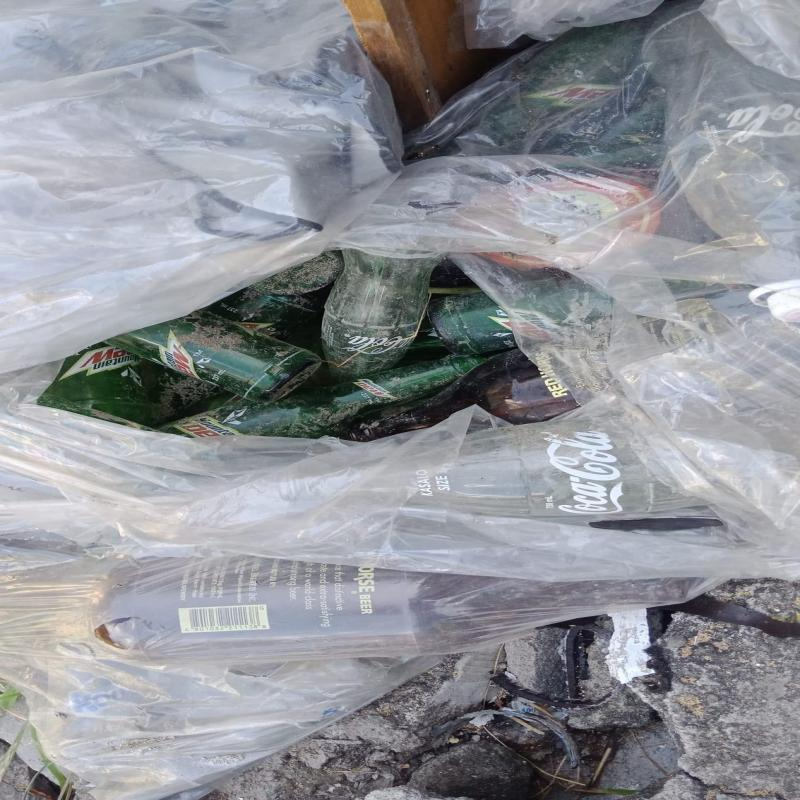glass bottle: (279, 417, 708, 519), (156, 357, 480, 439), (341, 349, 580, 443), (103, 310, 321, 403), (321, 249, 446, 384), (44, 342, 152, 424), (426, 292, 517, 356)
